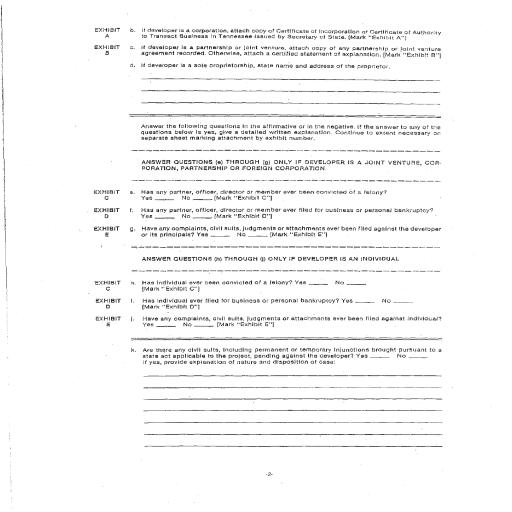check_box: (341, 294, 417, 306), (292, 278, 370, 288), (195, 231, 269, 241), (355, 352, 435, 360), (142, 213, 213, 221), (140, 195, 214, 202), (143, 322, 215, 328)
free_text: (141, 60, 391, 73)
